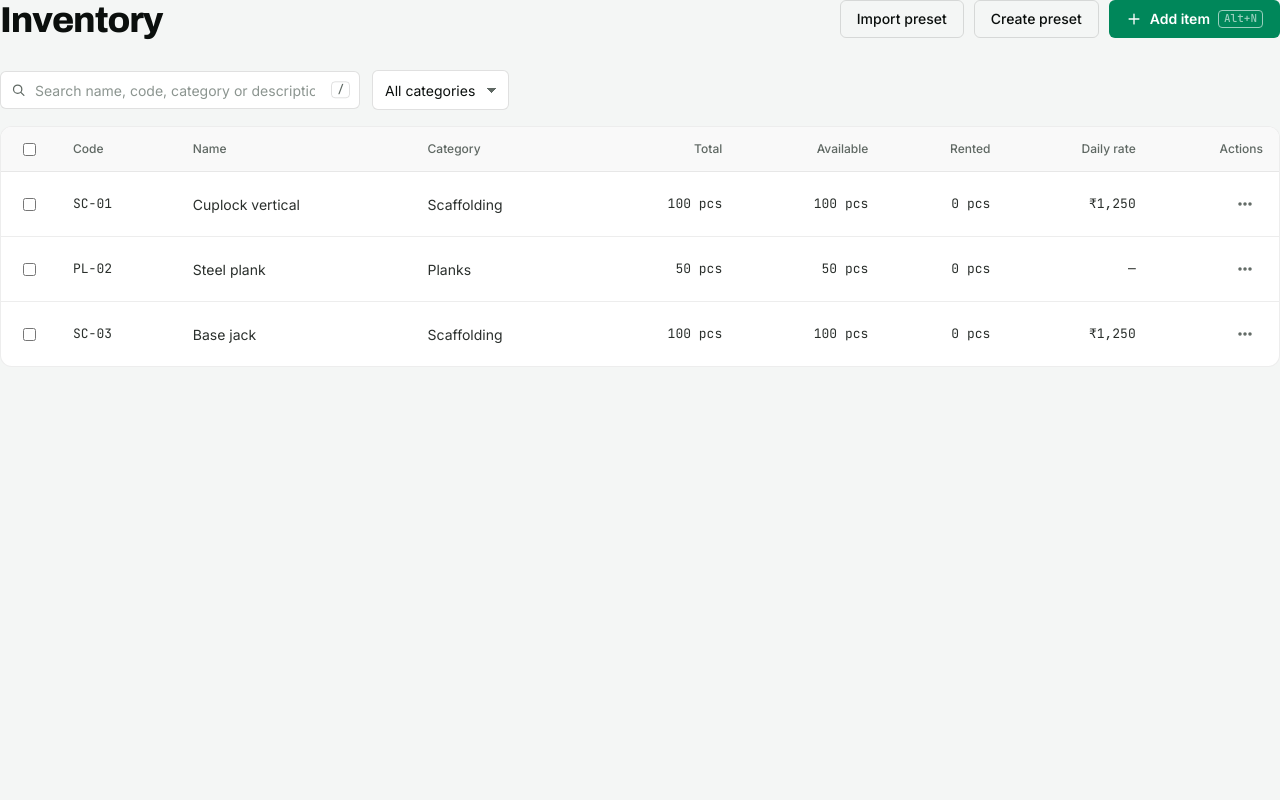
it: InventoryPage › shows a failed create in a dialog
This screenshot has width=1280, height=800.
Expected: the table is shown, [1,127,1279,366]
Click the button "Add item Alt+N" at (1194, 19), box [1109,0,1279,38]
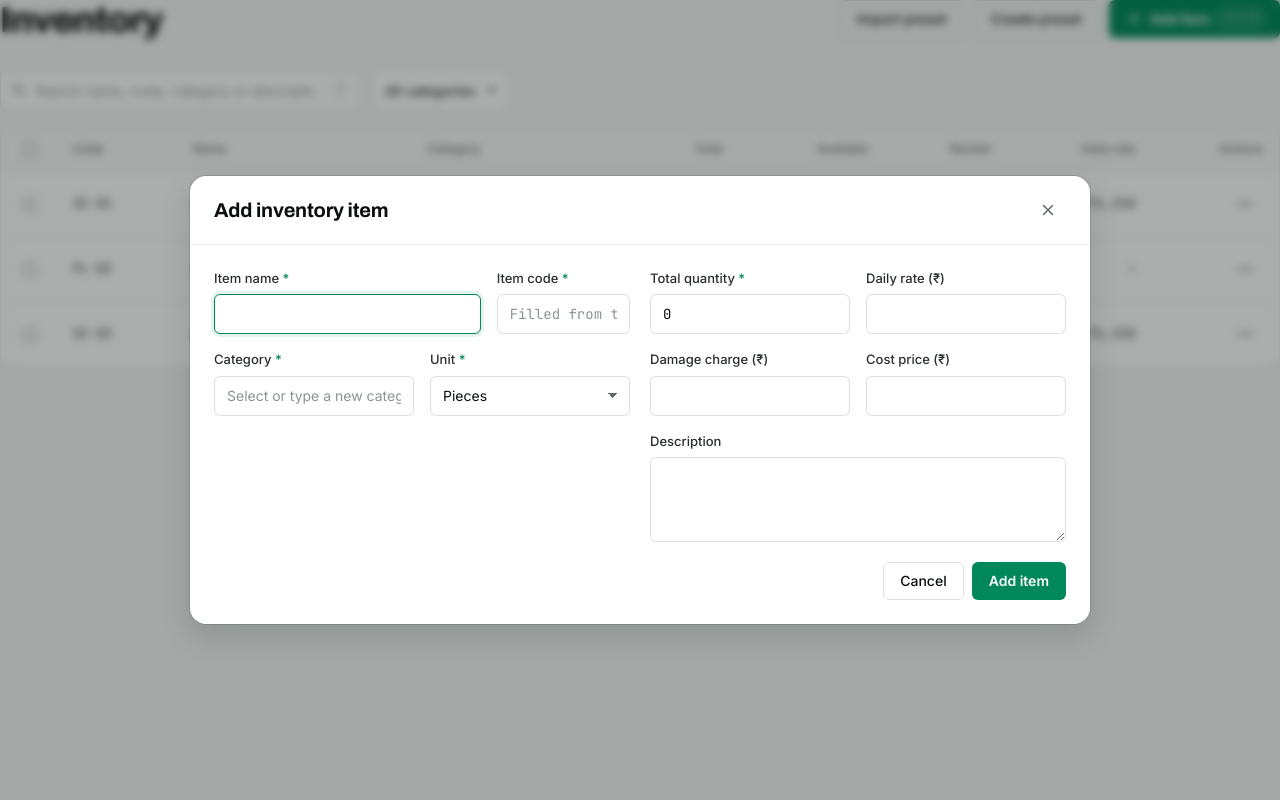
Type "NEW-1" into the field labelled "Item code *" at (563, 314), box [497,294,630,334]
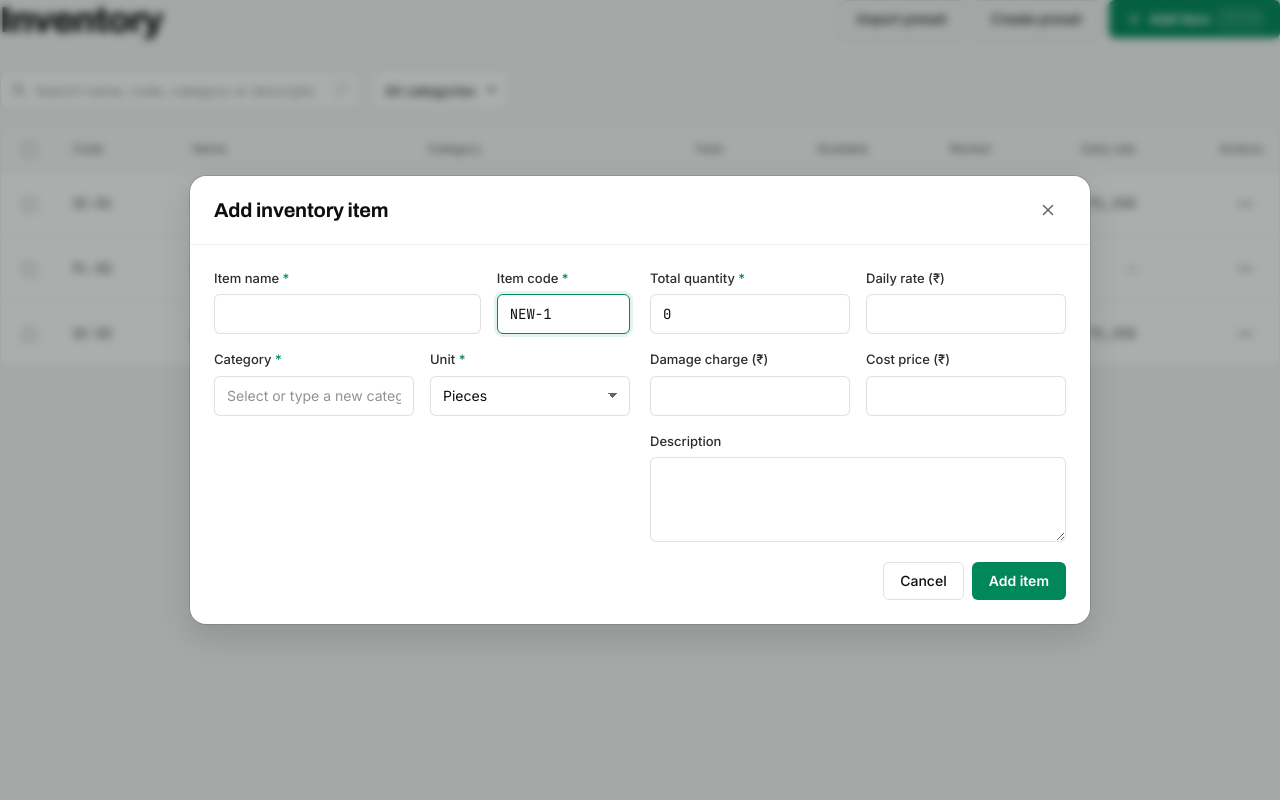
Type "New thing" into the field labelled "Item name *" at (347, 314), box [214,294,481,334]
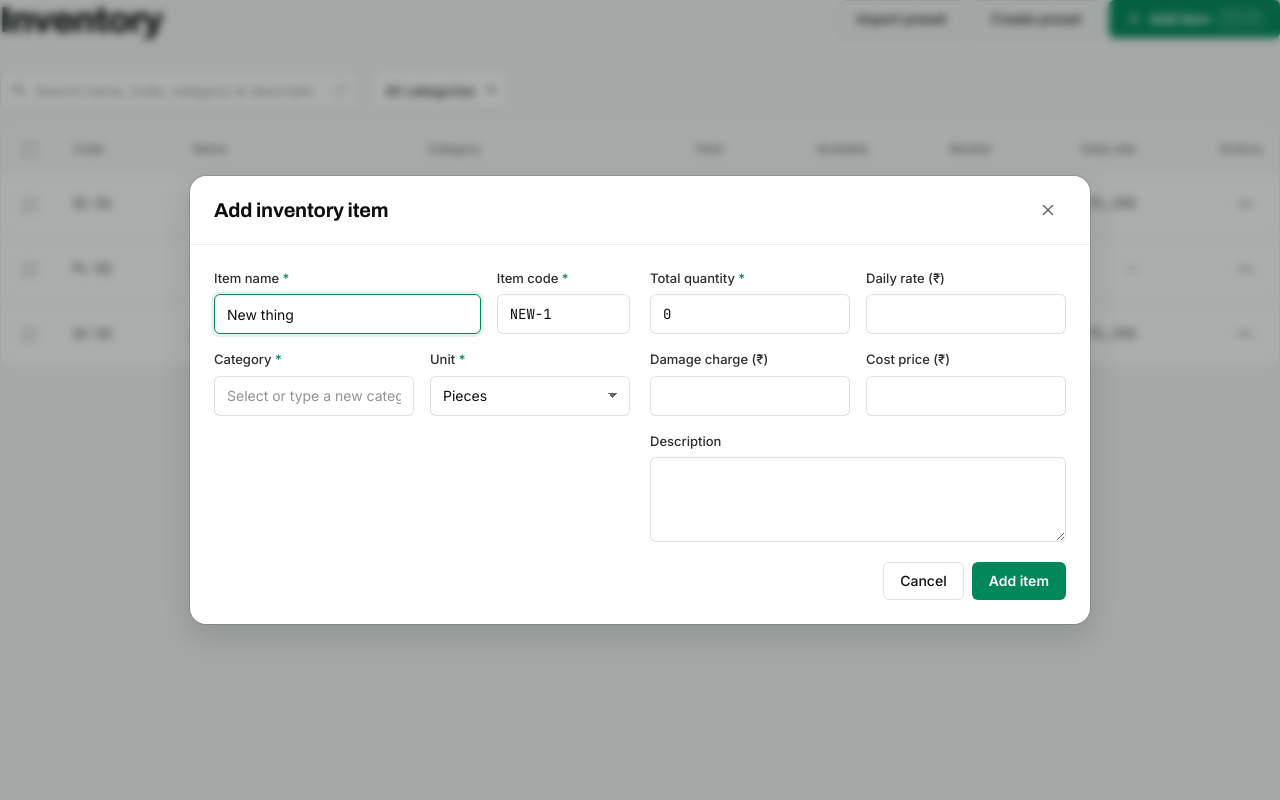
Type "Misc" into the dropdown with placeholder "Select or type a new category..." at (314, 396), box [214,376,414,416]
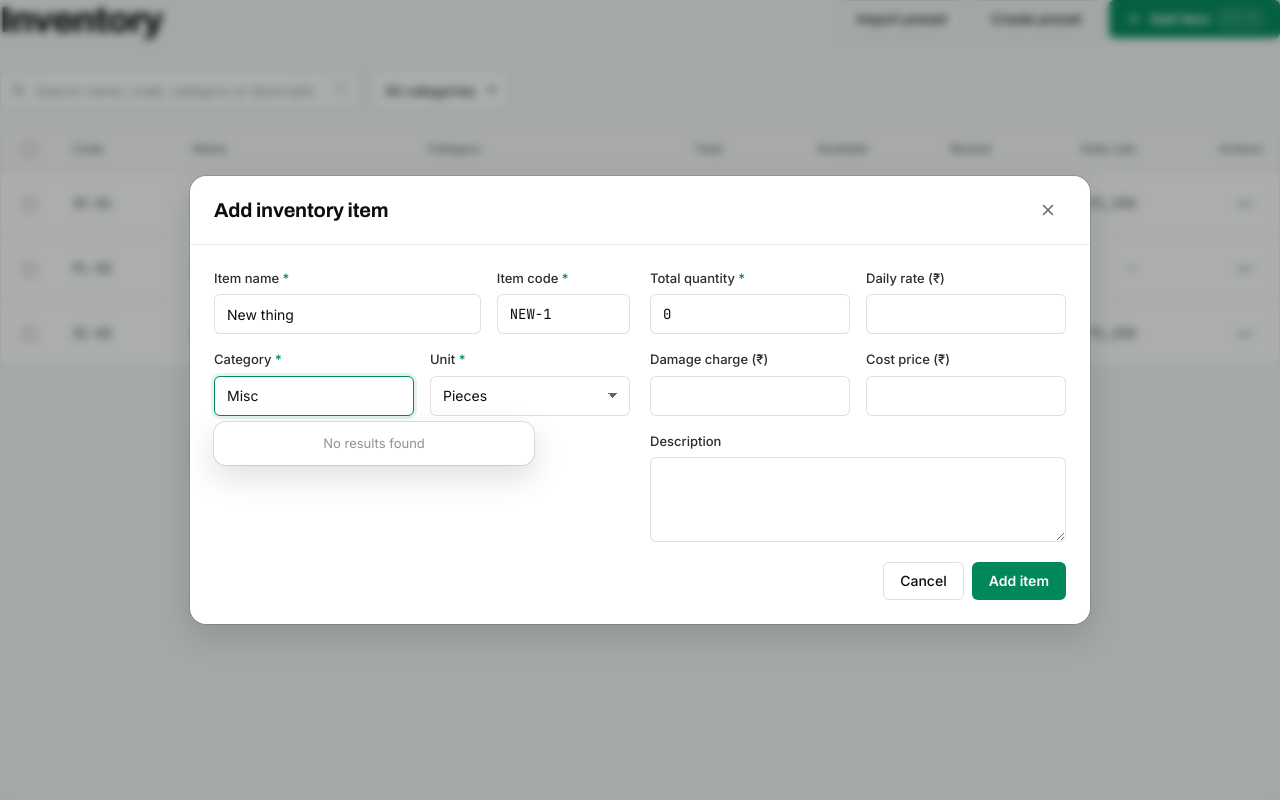
Replace the text in the number field labelled "Total quantity *" with "5" at (750, 314), box [650,294,850,334]
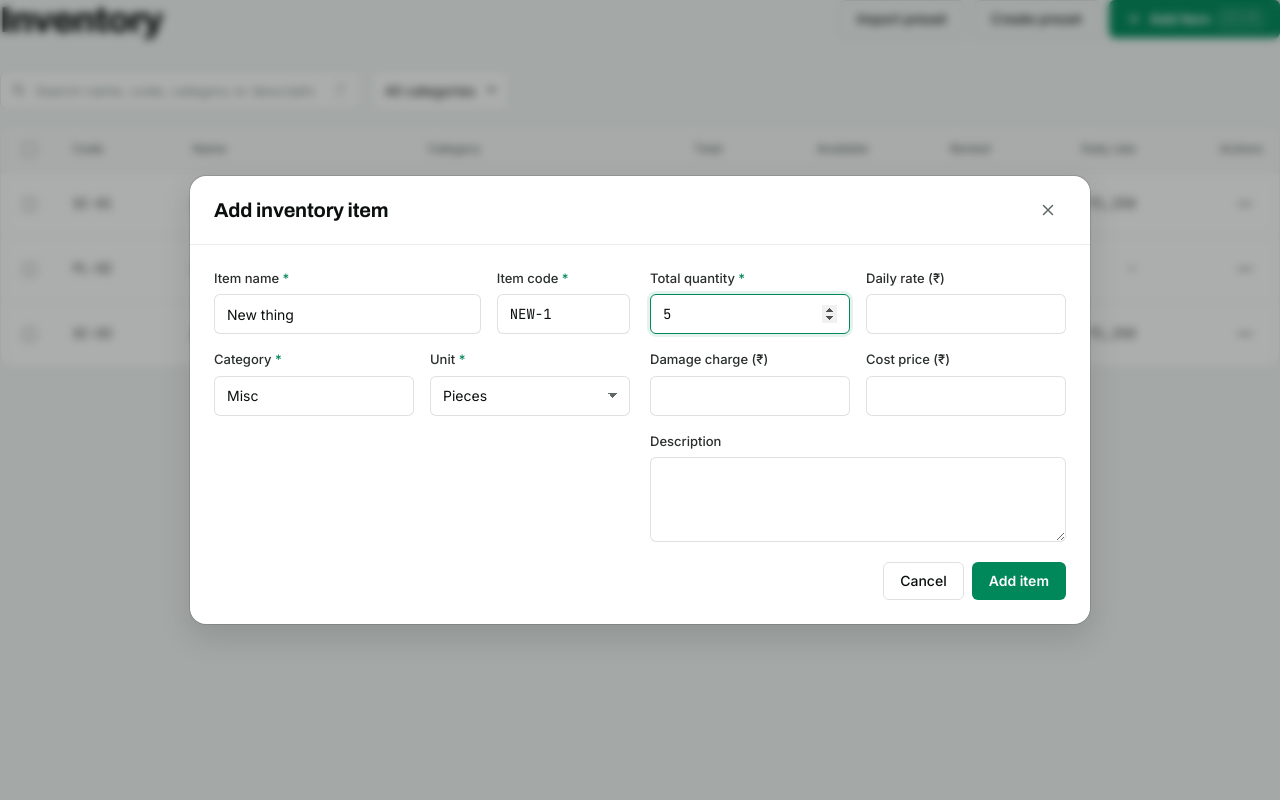
Click the button "Add item" at (1019, 581), box [972,562,1066,600]
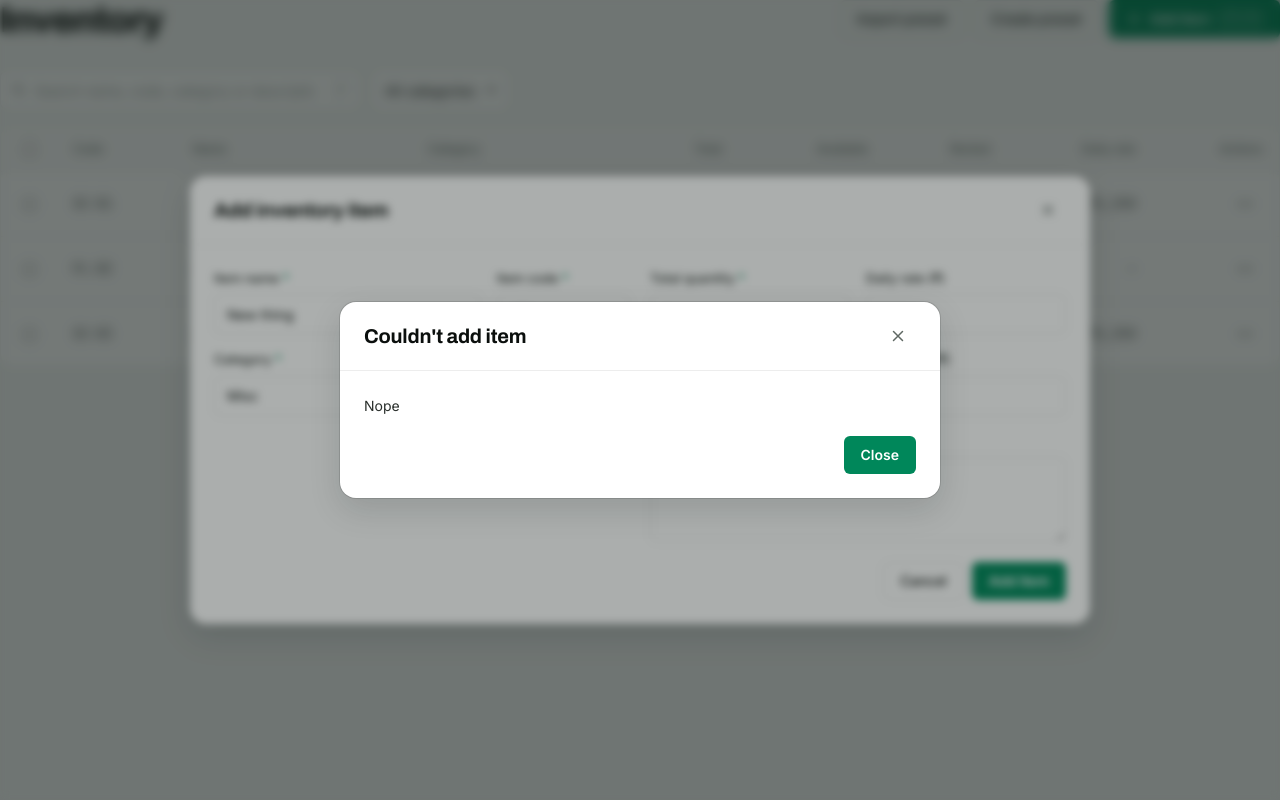
Expected: the dialog "Couldn't add item" shows "Nope", [364,397,400,414]
